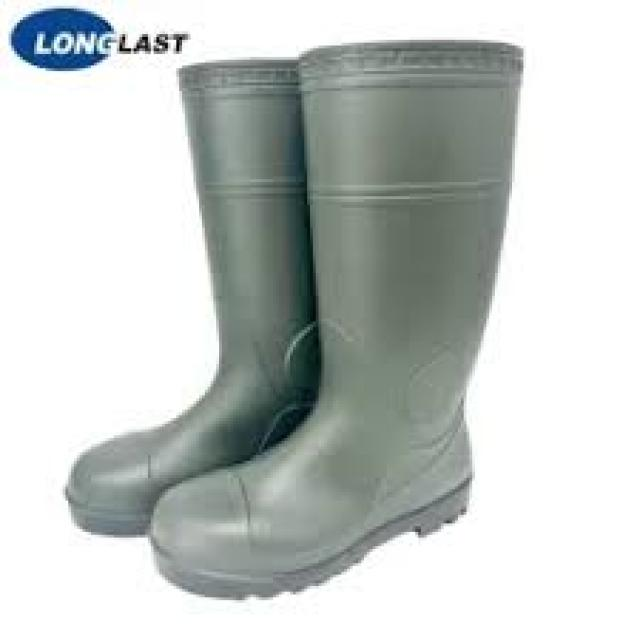shoes: (66, 42, 522, 596)
